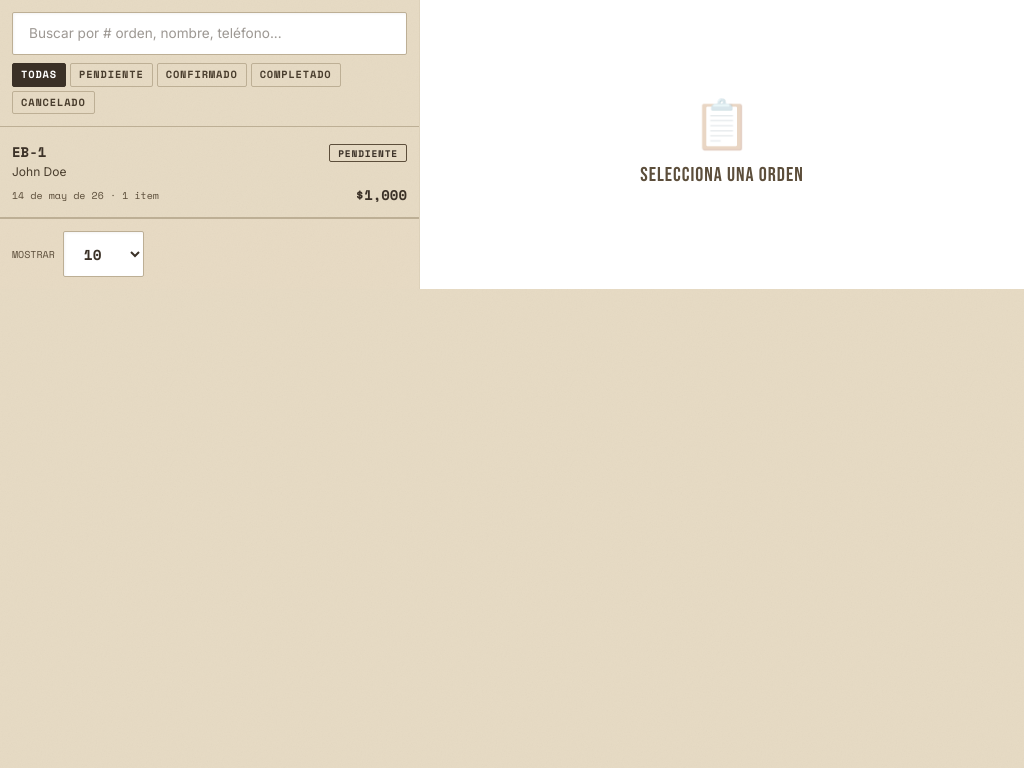
Test case: OrdersPanel › shows order details when an order is clicked
Click the text "EB-1": (29,152) [12,141,46,162]
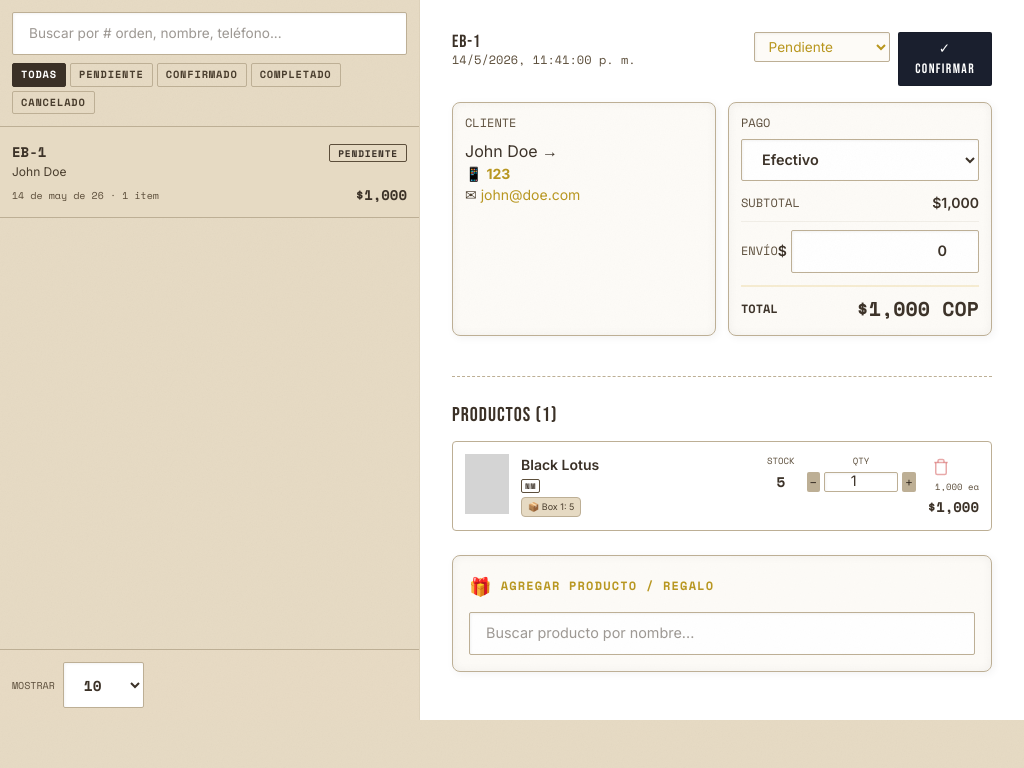
Expected: the text "Black Lotus" is shown, [521,456,599,473]
Expected: the text "John Doe →" is shown, [452,102,716,336]
